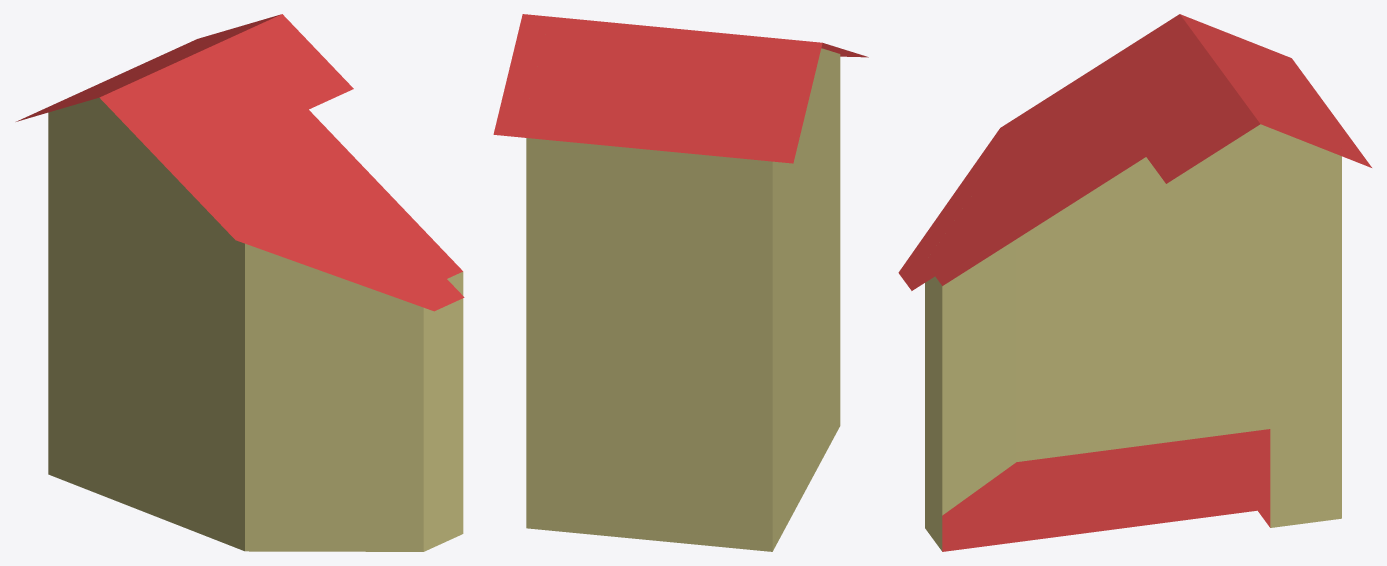
The picture shows the model from 3 angles, left to right: view 1: azimuth 30°, elevation 25°; view 2: azimuth 150°, elevation 25°; view 3: azimuth 270°, elevation 25°; orthographic projection. The views are drawn at different scales.
Size of the model in its own units: 9.95 by 14.53 by 14.06.
